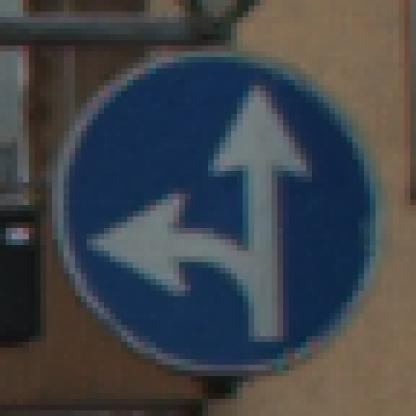Straight or Left: (42, 41, 383, 383)
